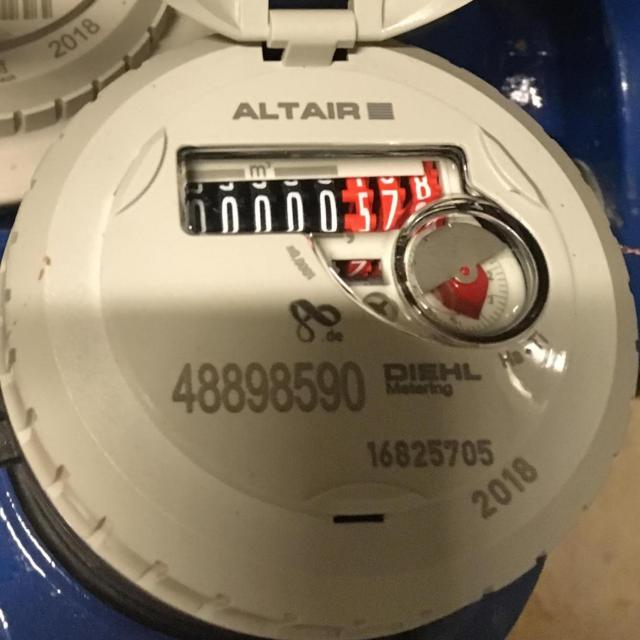gaz_meter: (5, 25, 632, 630)
indication: (180, 157, 455, 236)
